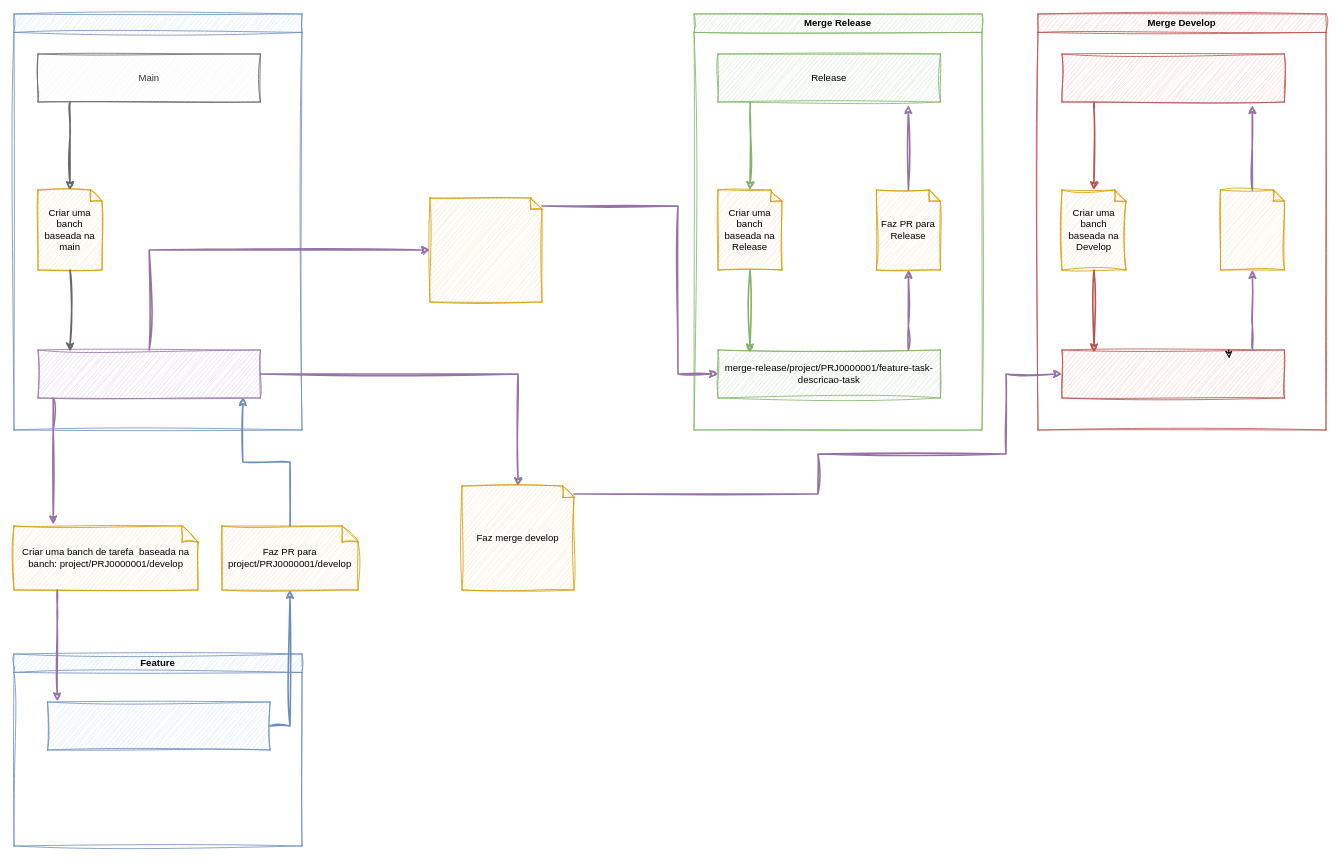
The diagram is 1340 pixels wide and 860 high, and some of its shapes have lost their labels. The box of each missing label's shape, as (x1, y1, x2, y2) in pixels:
Develop: (1061, 53, 1284, 102)
Faz merge release: (429, 197, 542, 302)
Faz PR para Develop: (1220, 189, 1284, 270)
merge-develop/project/PRJ0000001/feature-task-descricao-task: (1061, 349, 1284, 398)
project/PRJ0000001/develop: (37, 349, 260, 398)
project/PRJ0000001/feature/task-descricao-task: (47, 701, 270, 750)
Sprint - 1: (13, 13, 302, 430)
